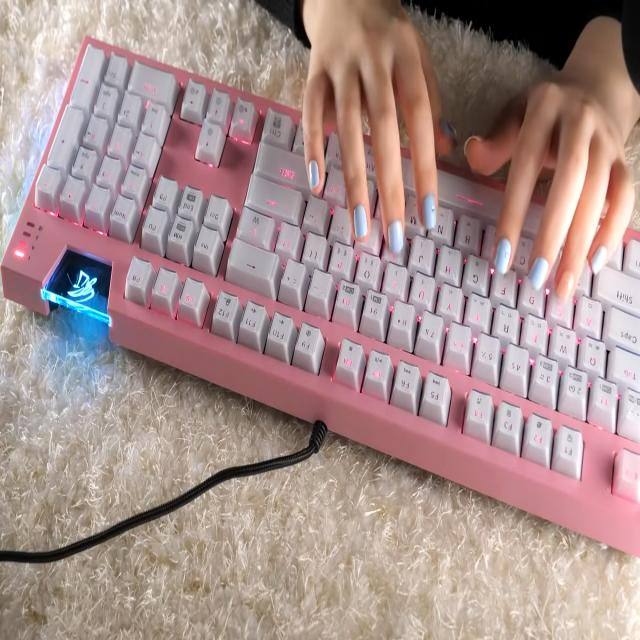keyboard-with-hands: (0, 35, 640, 524)
